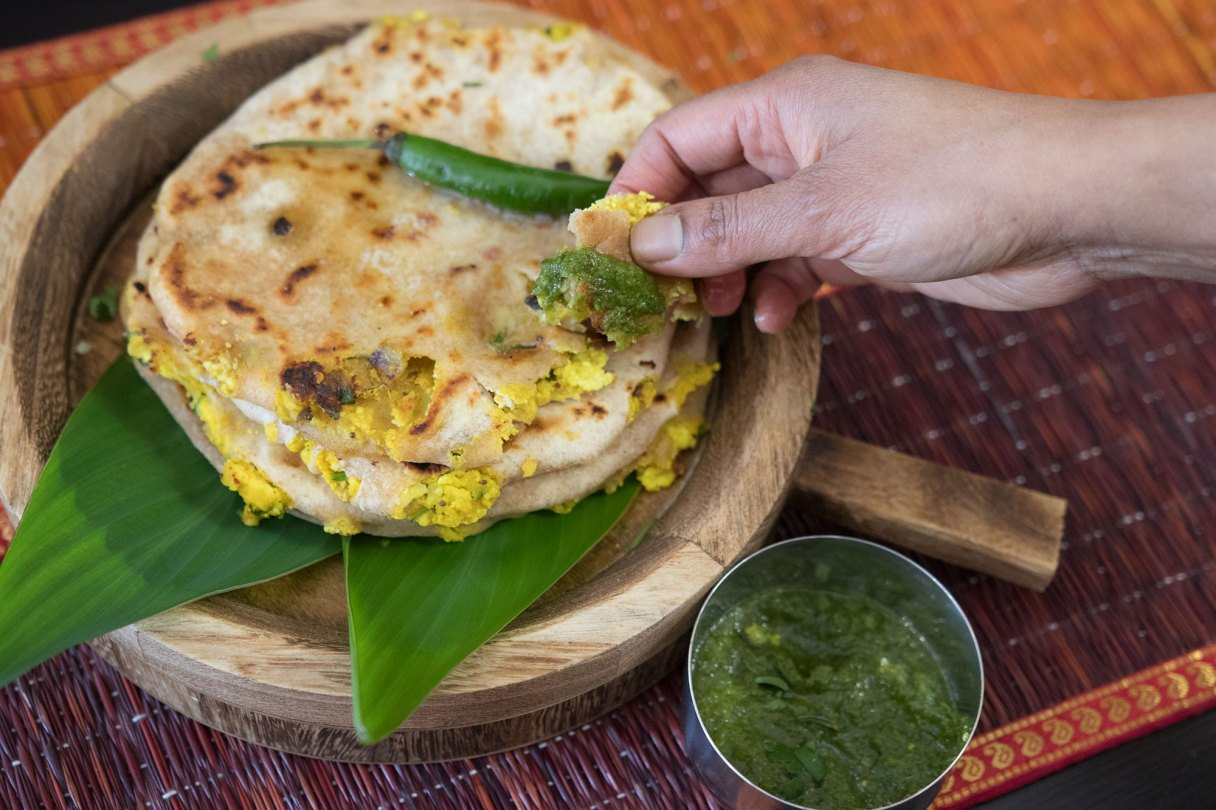aloo_paratha: (114, 8, 703, 533)
